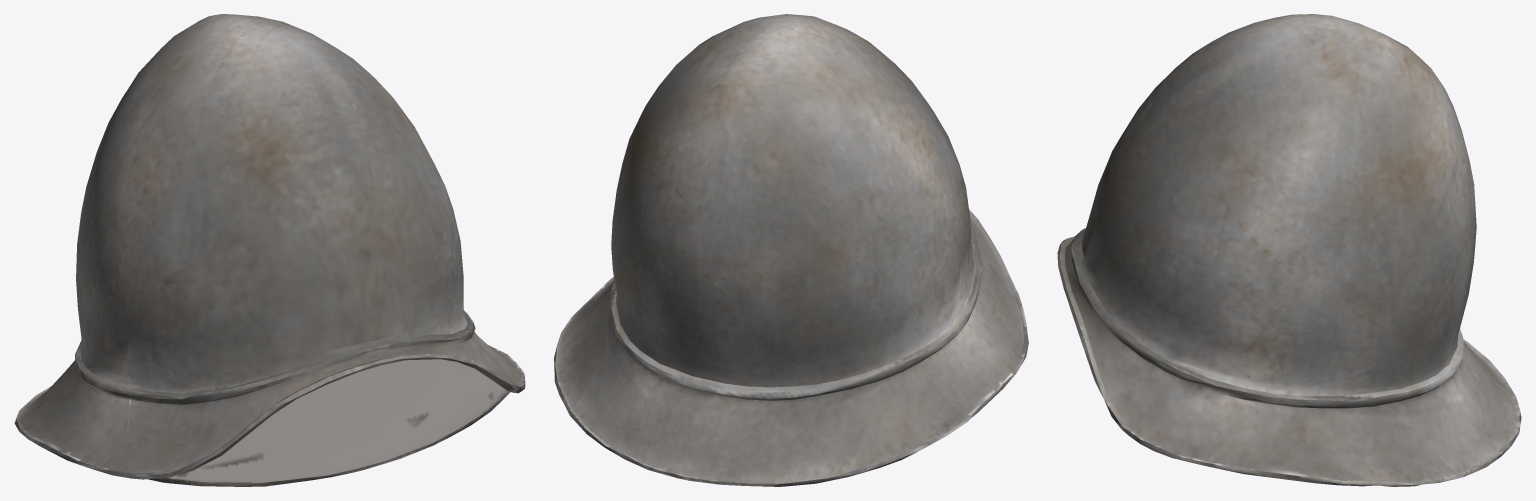
The model's file is item_mm9_10122.glb.
3 renders of one model, left to right at view 1: azimuth 30°, elevation 25°; view 2: azimuth 150°, elevation 25°; view 3: azimuth 270°, elevation 25°, orthographic. The views are drawn at different scales.
Parts seen in each view (by area): view 1: d10122; view 2: d10122; view 3: d10122.
Boxes of the visible parts, x1,y1,x2,y2 form: d10122: (14, 14, 525, 486); d10122: (554, 14, 1028, 486); d10122: (1057, 14, 1521, 486).
Size of the model in its own units: 1 by 0.905 by 0.957.
Materials: 1 (1 with a texture image).
